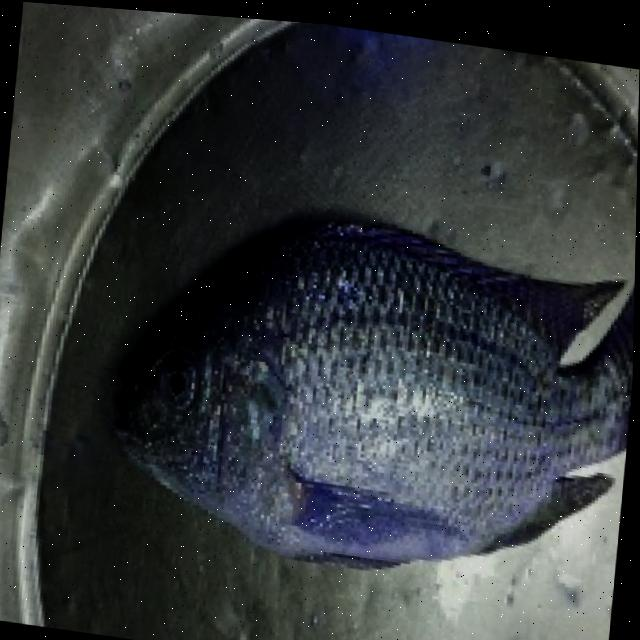Fresh: (110, 184, 637, 587)
